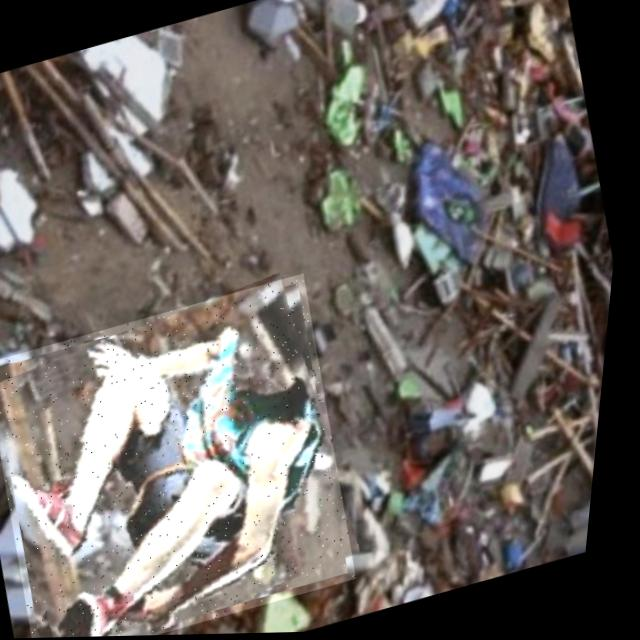Person in Rubble: (0, 273, 390, 640)
